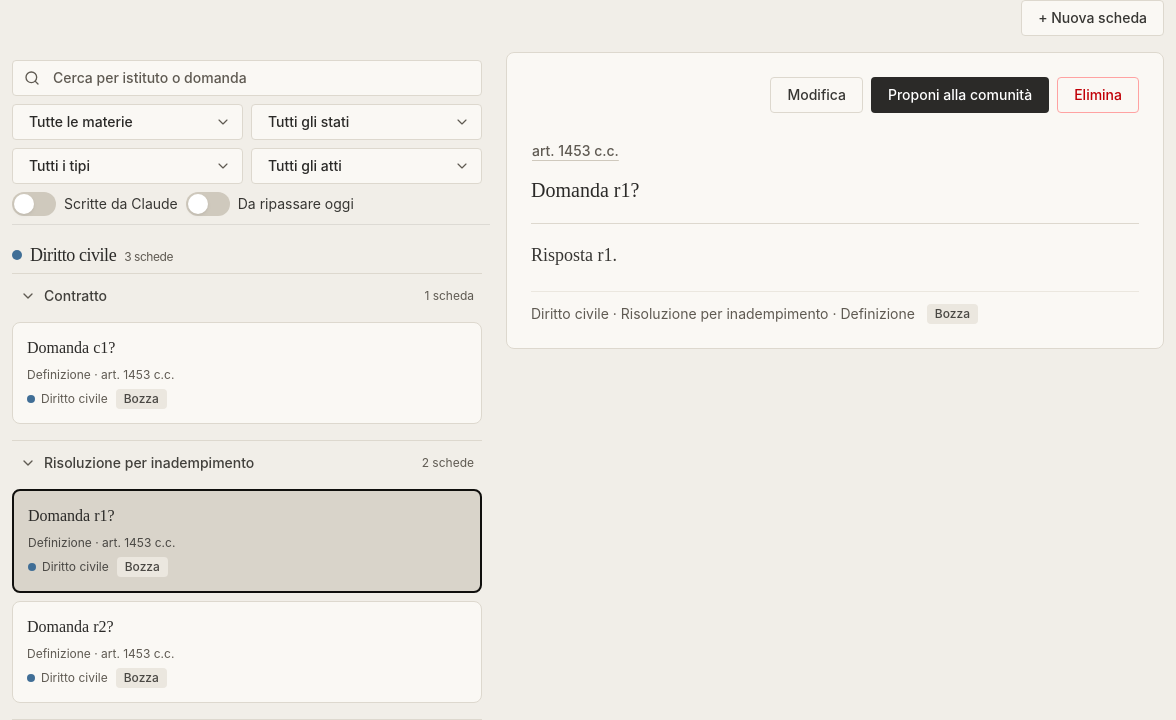
Scenario: «Le mie schede», delete › moves the card to the trash with no confirmation, with «Annulla» and «Apri il cestino», and returns to the list (K1a, LC89)
Click the button "Elimina" at (1098, 95), box x1=1057 y1=77 x2=1139 y2=113
(page scrolled)
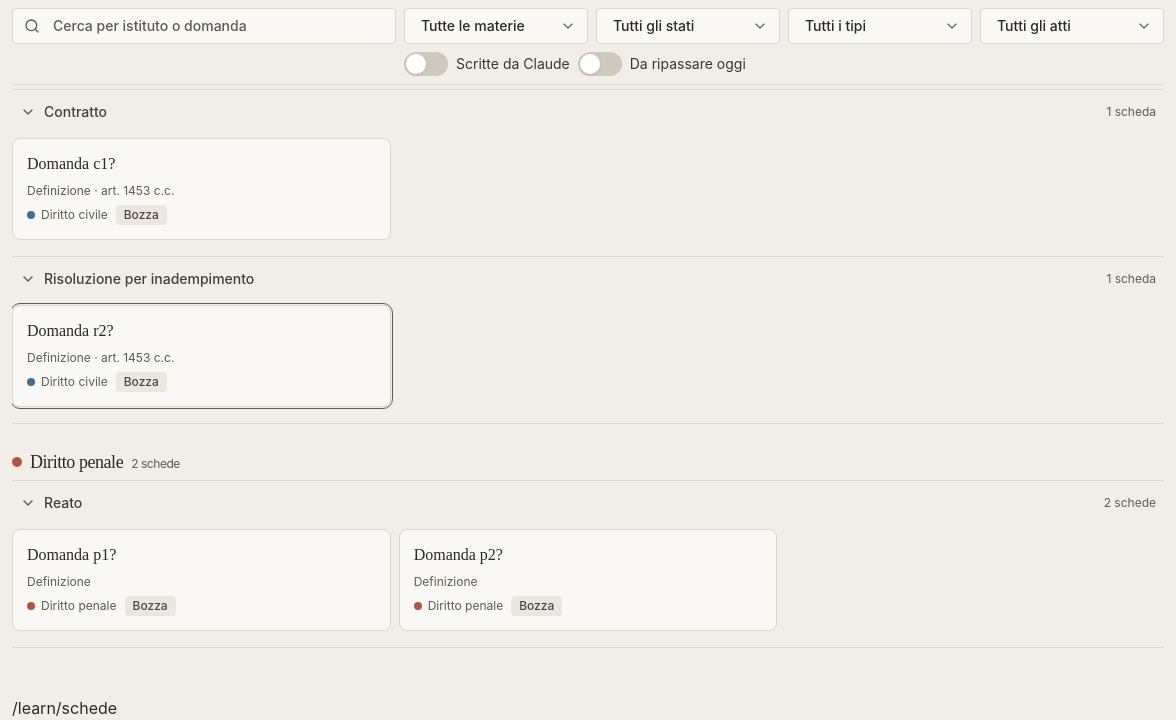
Now the text with test id "where" reads "/learn/schede", box x1=12 y1=698 x2=117 y2=718
Now the link "Domanda r1?" is gone
